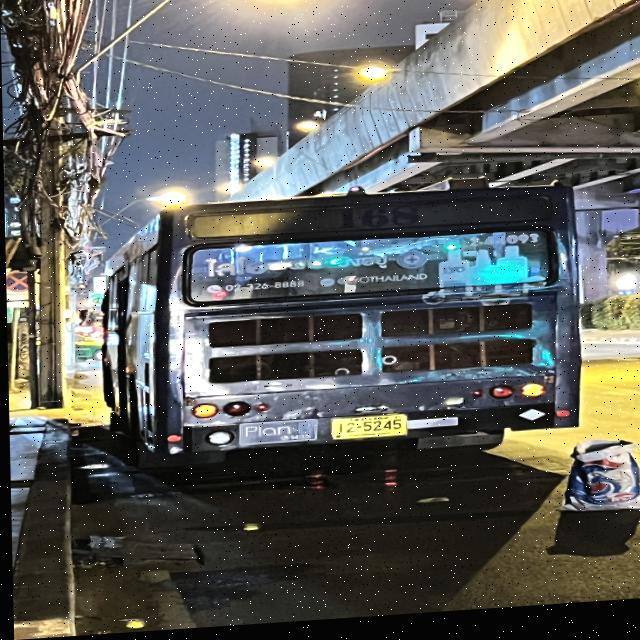BMTA-bus: (89, 177, 590, 479)
Bus-Line-Number: (326, 205, 427, 240)
